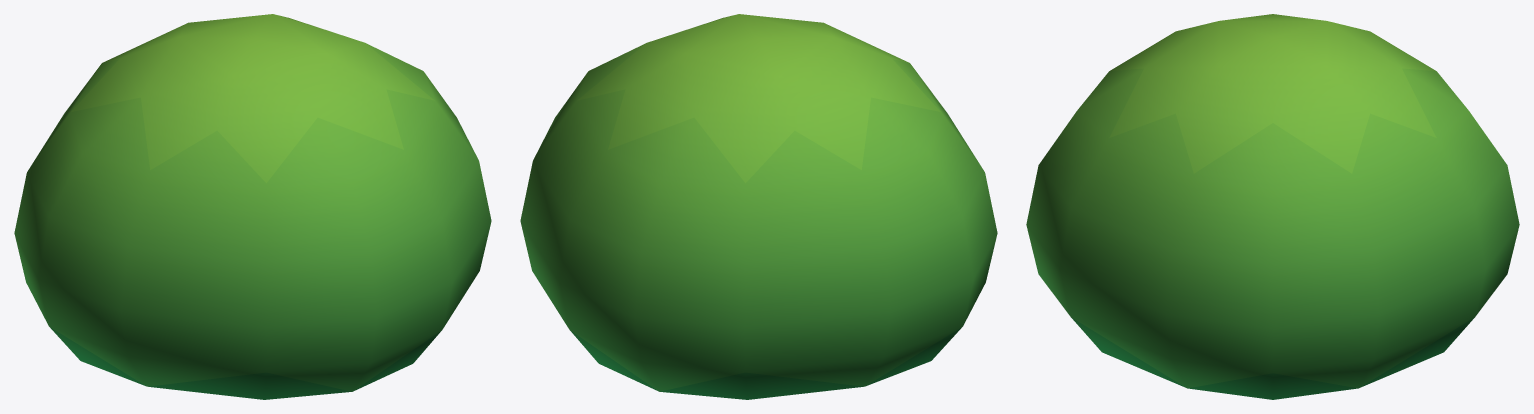
The model's file is Bush_1_C_Color1.glb.
The picture shows the model from 3 angles, left to right: view 1: azimuth 30°, elevation 25°; view 2: azimuth 150°, elevation 25°; view 3: azimuth 270°, elevation 25°; orthographic projection.
Parts seen in each view (by area): view 1: Bush_1_C_Color1; view 2: Bush_1_C_Color1; view 3: Bush_1_C_Color1.
Part boxes in pixels (x1=…): Bush_1_C_Color1: x1=14, y1=14, x2=491, y2=399; Bush_1_C_Color1: x1=520, y1=14, x2=997, y2=399; Bush_1_C_Color1: x1=1026, y1=14, x2=1519, y2=399.
Bounding box in the file's own units: 1.2 × 0.8074 × 1.2.
Materials: 1 (1 with a texture image).
